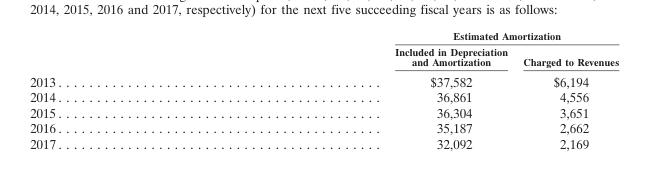table: (29, 29, 618, 150)
table column: (227, 29, 514, 150), (29, 29, 227, 150), (514, 29, 618, 150)
table column header: (29, 29, 618, 70)
table row: (29, 43, 618, 70), (29, 70, 618, 88), (29, 88, 618, 104), (29, 119, 618, 135), (29, 104, 618, 119), (29, 135, 618, 150), (29, 29, 618, 43)
table spanning cell: (227, 29, 618, 43)
